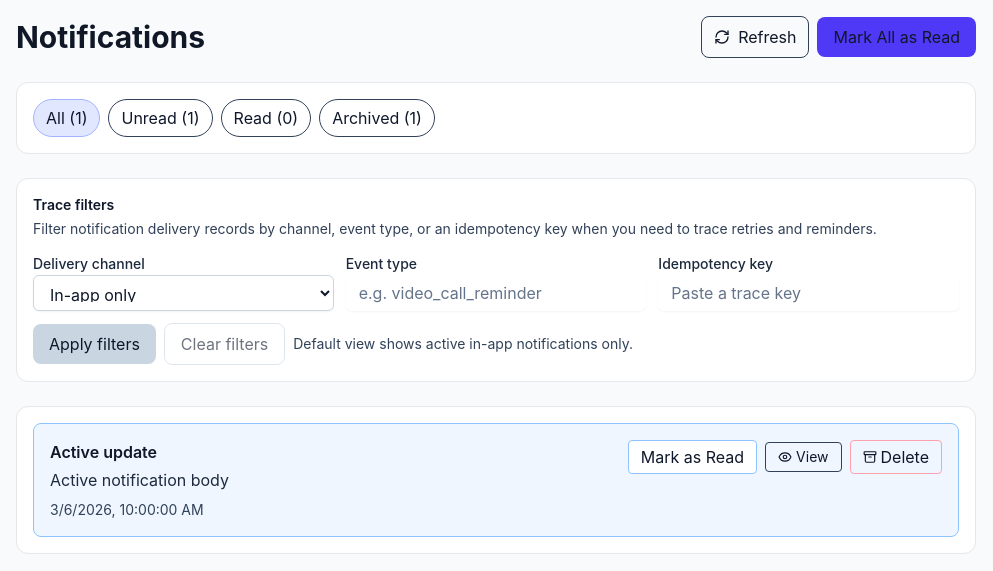
Test: NotificationsPage soft archive UX › shows Restore action when archived tab is selected
Step 1. Click the button "Archived (1)" → (377, 118), box [319, 99, 435, 137]
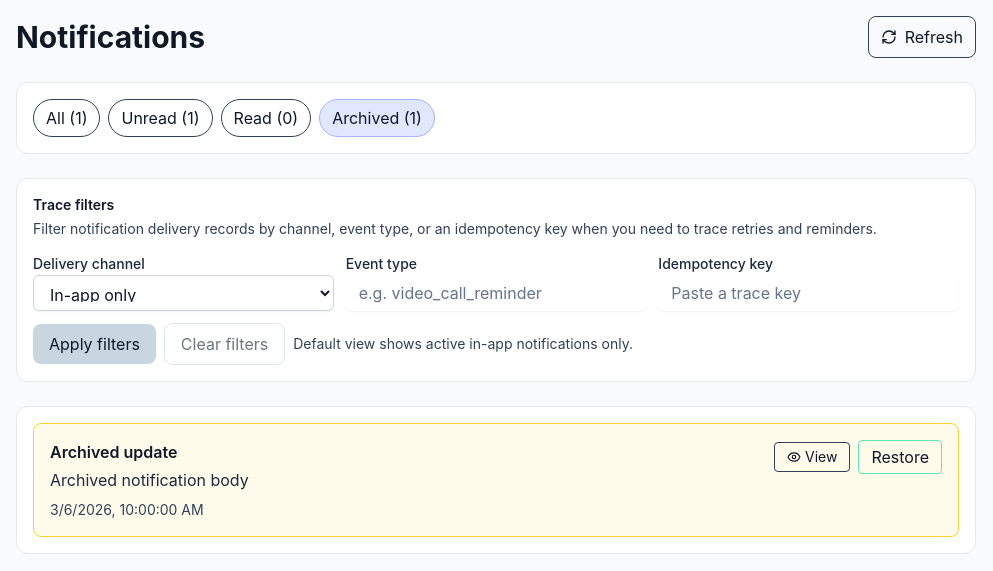
Result: the heading "Archived update" is shown at [50, 442, 177, 462]
Result: the button "Restore" is shown at [858, 440, 942, 474]
Result: the button "Delete" is gone
